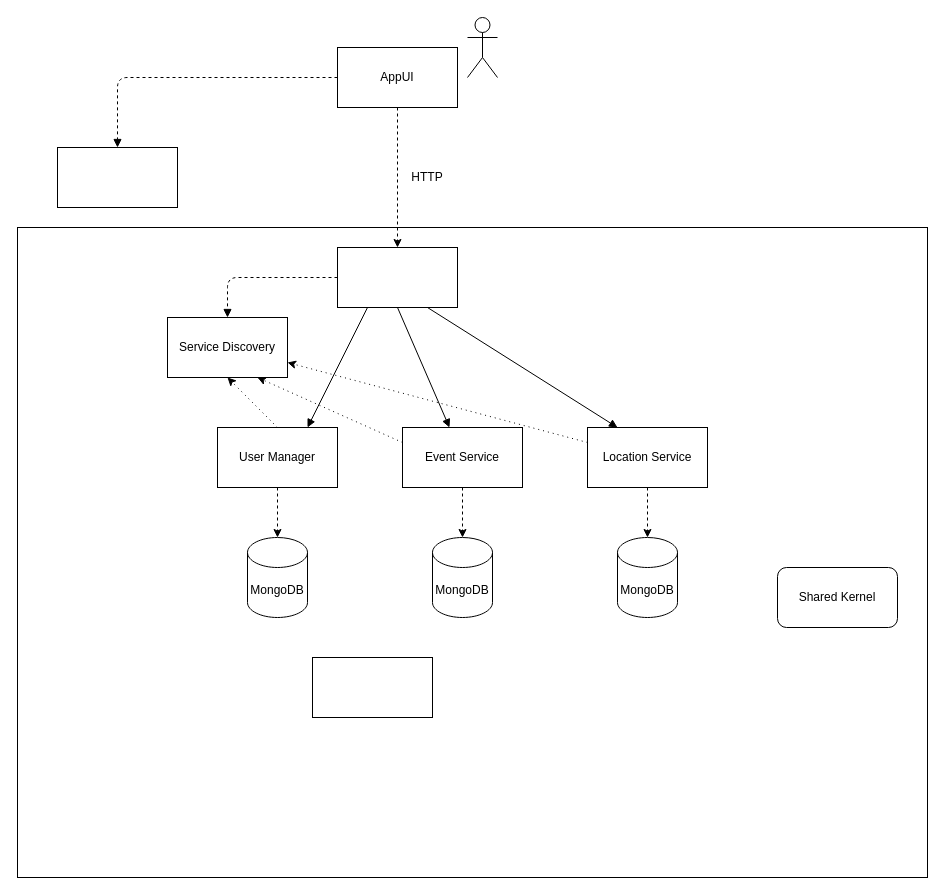
The diagram is 945 pixels wide and 895 high, and some of its shapes have lost their labels. The shapes that lost their labels are listed below. From the top down, each one's centre as x and y in pixels, then its label:
At point (482, 47): "User".
At point (117, 177): "Auth Service".
At point (397, 277): "API Gateway".
At point (372, 687): "Notification Service".
